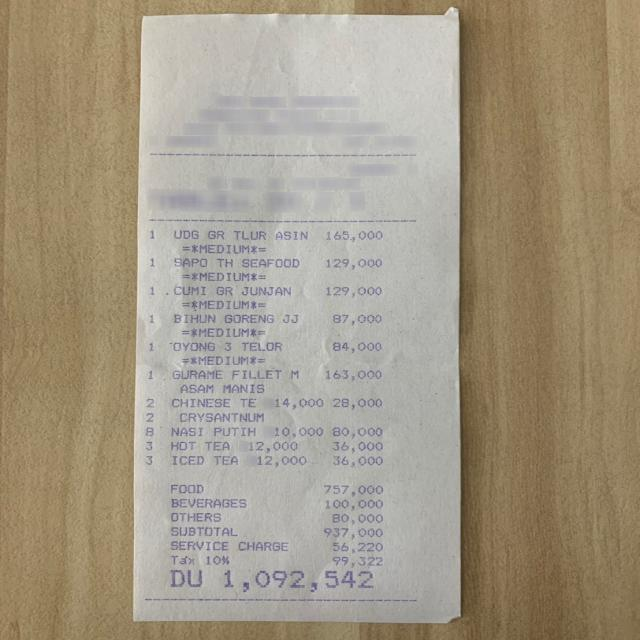kertas: (135, 11, 460, 622)
